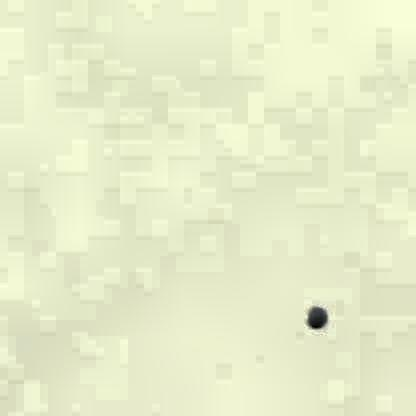golfball: (301, 303, 326, 327)
